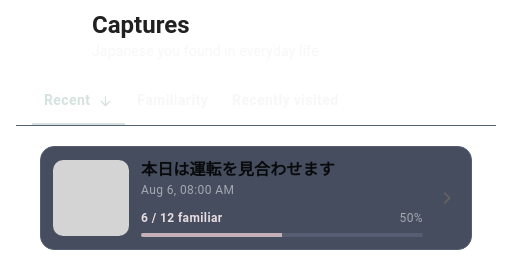
it: CaptureGallery › shows retained captures and reverses the active sort when its tab is tapped again
Expected: the text "本日は運転を見合わせます" is shown, [141,160,335,179]
Expected: the text "6 / 12 familiar" is shown, [141,209,223,229]
Click the tab with aria-label "Recent, descending": click(79, 101) [32,77,125,125]
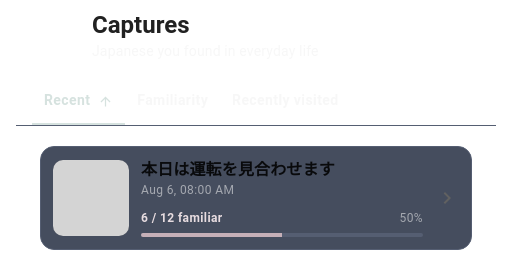
Now the tab with aria-label "Recent, ascending" is shown, box [32,77,125,125]
